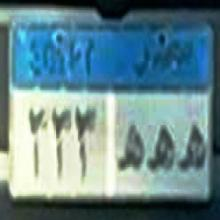3: (74, 104, 98, 186), (26, 102, 50, 182), (51, 105, 72, 185)
haa: (177, 121, 207, 182), (114, 118, 144, 175), (146, 123, 176, 178)
